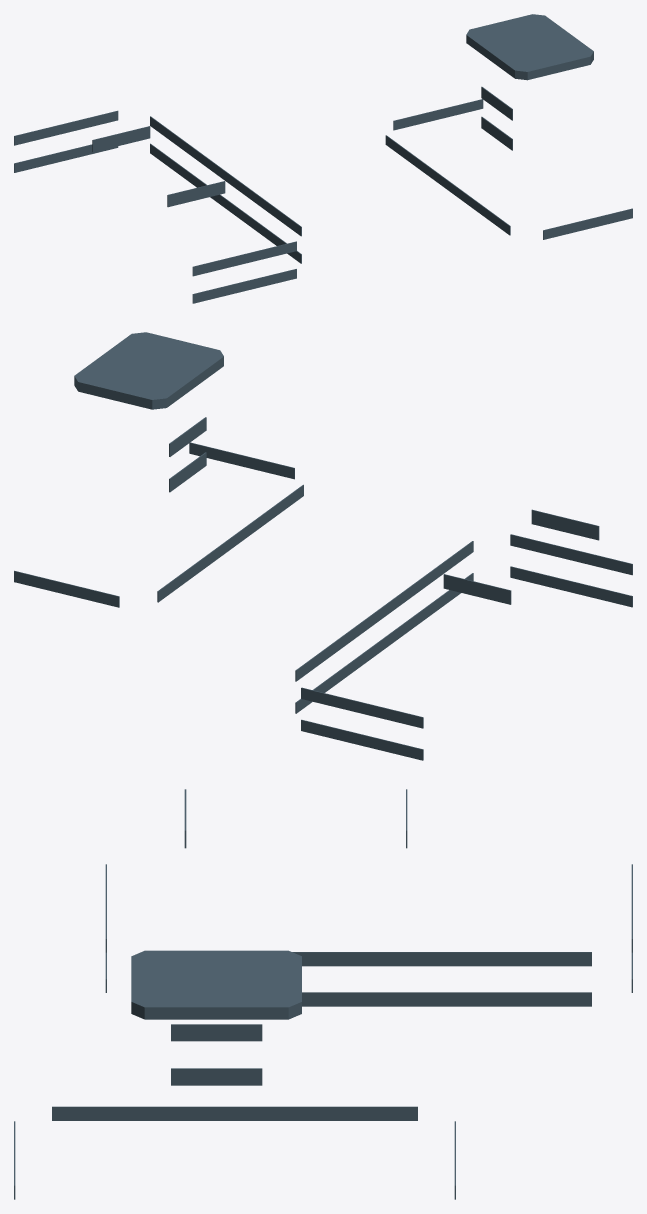
The model's file is AviationDefenseRelayGlazing.gltf.
3 renders of one model, top to bottom at view 1: azimuth 30°, elevation 25°; view 2: azimuth 150°, elevation 25°; view 3: azimuth 270°, elevation 25°, orthographic. The views are drawn at different scales.
Parts seen in each view (by area): view 1: AviationDefenseRelayGlazing; view 2: AviationDefenseRelayGlazing; view 3: AviationDefenseRelayGlazing.
Boxes of the visible parts, <box> form: AviationDefenseRelayGlazing: <box>14,14,632,303</box>; AviationDefenseRelayGlazing: <box>14,332,632,760</box>; AviationDefenseRelayGlazing: <box>14,789,632,1199</box>.
Bounding box in the file's own units: 116 × 37.75 × 101.
